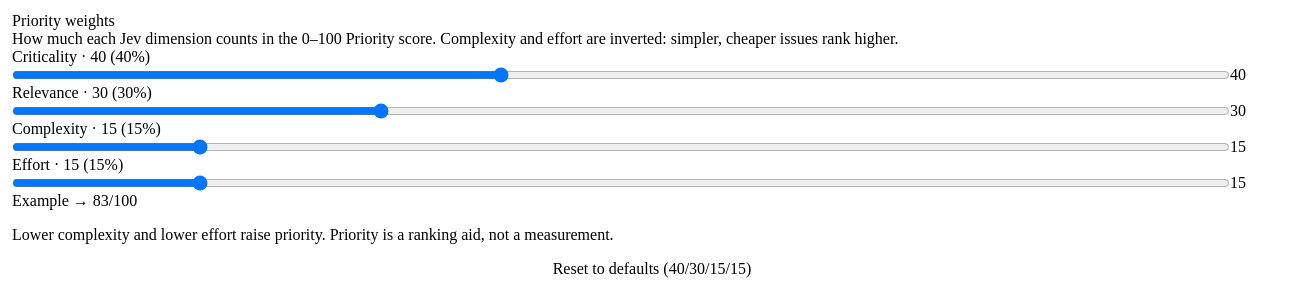
it: WeightEditor › title, subtitle and per-slider explanation › recomputes each share live (not debounced) as a weight changes
Replace the text in the number field named "Criticality · 40 (40%) value" with "60": (1261, 75) [1230,66,1292,84]
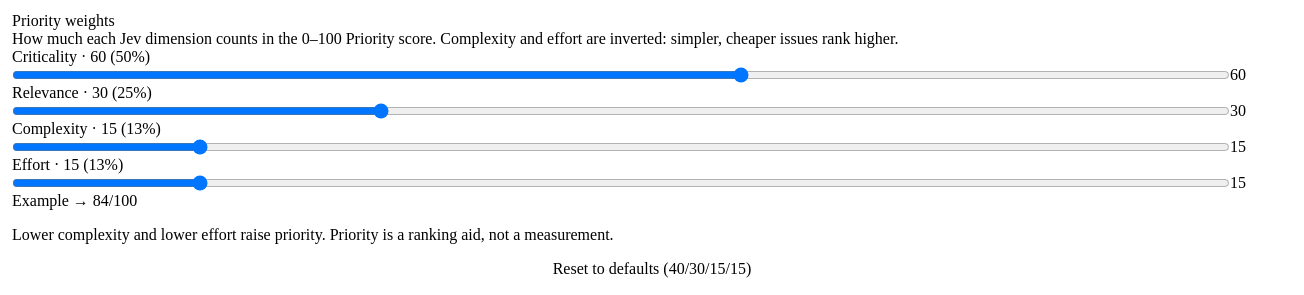
expect the label "Criticality · 60 (50%)" is shown: met, box [12,48,150,65]
